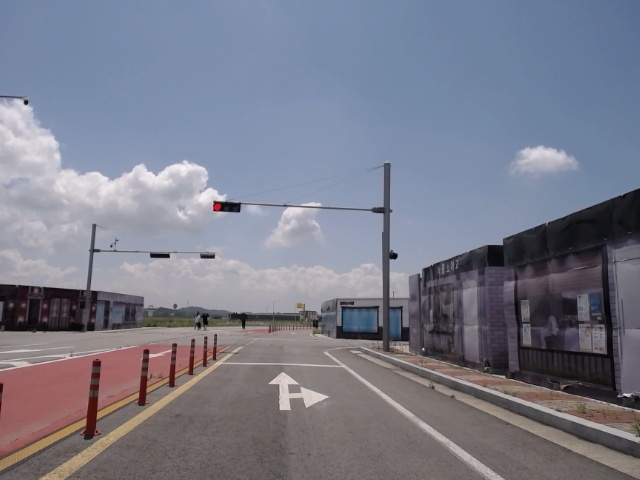red_3: (212, 200, 243, 214)
